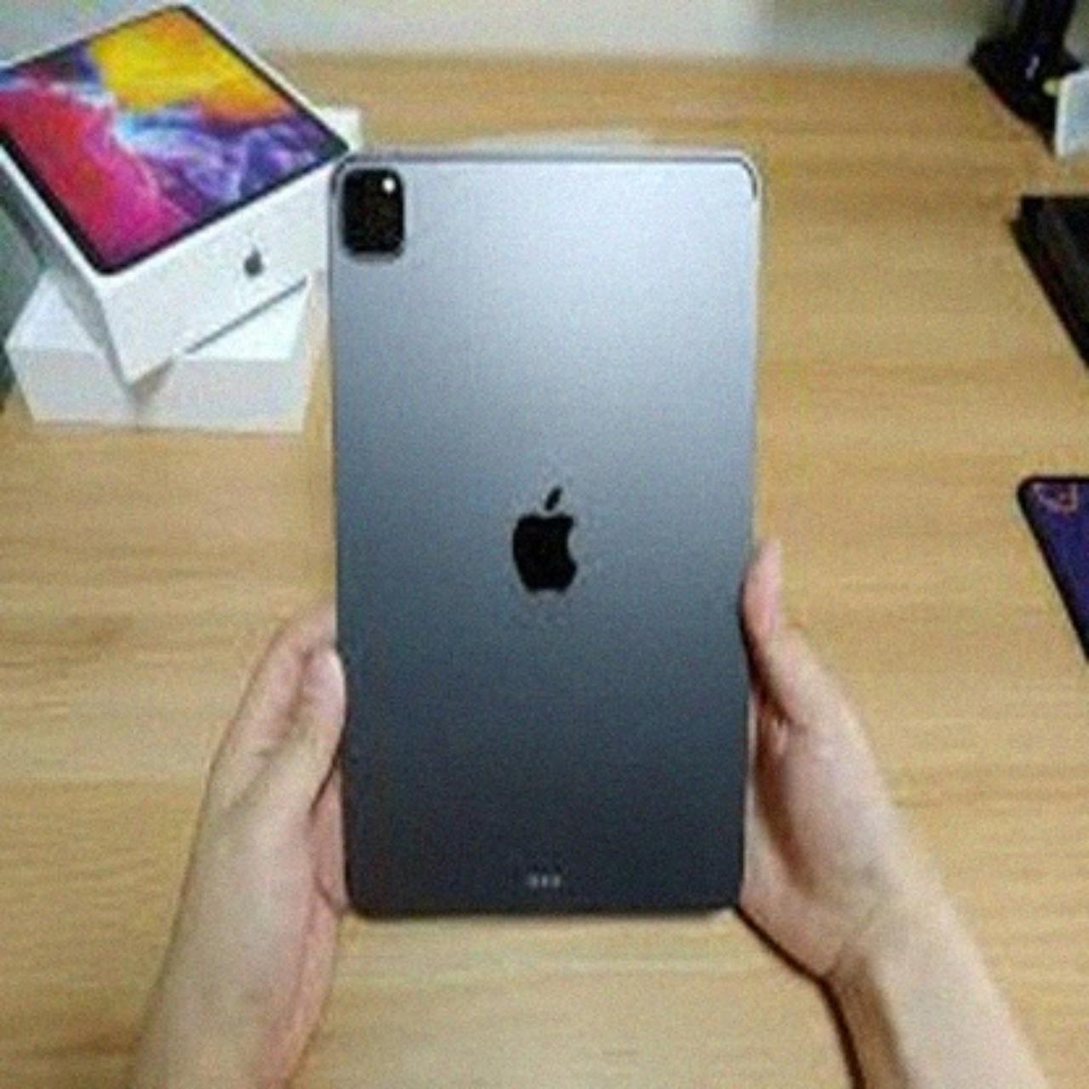Tablet_PC: (319, 142, 775, 942)
